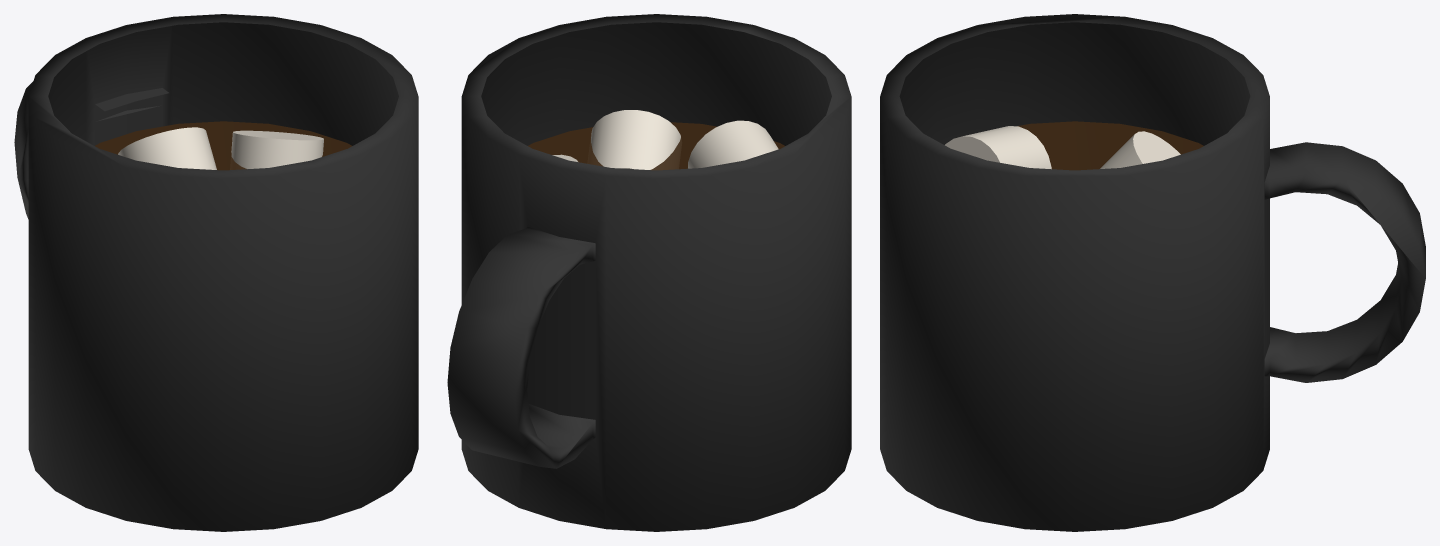
The model's file is cocoa_hot_chocolate.fbx.
The picture shows the model from 3 angles, left to right: view 1: azimuth 30°, elevation 25°; view 2: azimuth 150°, elevation 25°; view 3: azimuth 270°, elevation 25°; orthographic projection.
Visible parts, largest first — view 1: hot_cocoa_mug, hot_cocoa_marshmallows, hot_cocoa; view 2: hot_cocoa_mug, hot_cocoa_marshmallows, hot_cocoa; view 3: hot_cocoa_mug, hot_cocoa_marshmallows, hot_cocoa.
Part boxes in pixels (bbox=[...]): hot_cocoa_mug: bbox=[14, 14, 418, 531]; hot_cocoa_marshmallows: bbox=[118, 127, 323, 169]; hot_cocoa: bbox=[95, 121, 351, 170]; hot_cocoa_mug: bbox=[447, 14, 851, 531]; hot_cocoa_marshmallows: bbox=[552, 110, 778, 169]; hot_cocoa: bbox=[528, 122, 784, 170]; hot_cocoa_mug: bbox=[880, 14, 1425, 531]; hot_cocoa_marshmallows: bbox=[945, 126, 1180, 169]; hot_cocoa: bbox=[1017, 121, 1203, 170].
Size of the model in its own units: 0.3645 by 0.3645 by 0.5103.
